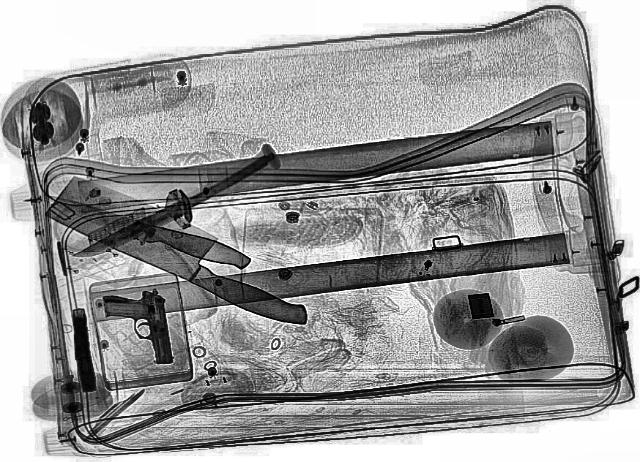Gun: (100, 288, 174, 366), (67, 307, 97, 391)
Knife: (28, 172, 342, 332), (66, 156, 280, 262), (38, 186, 254, 272)
